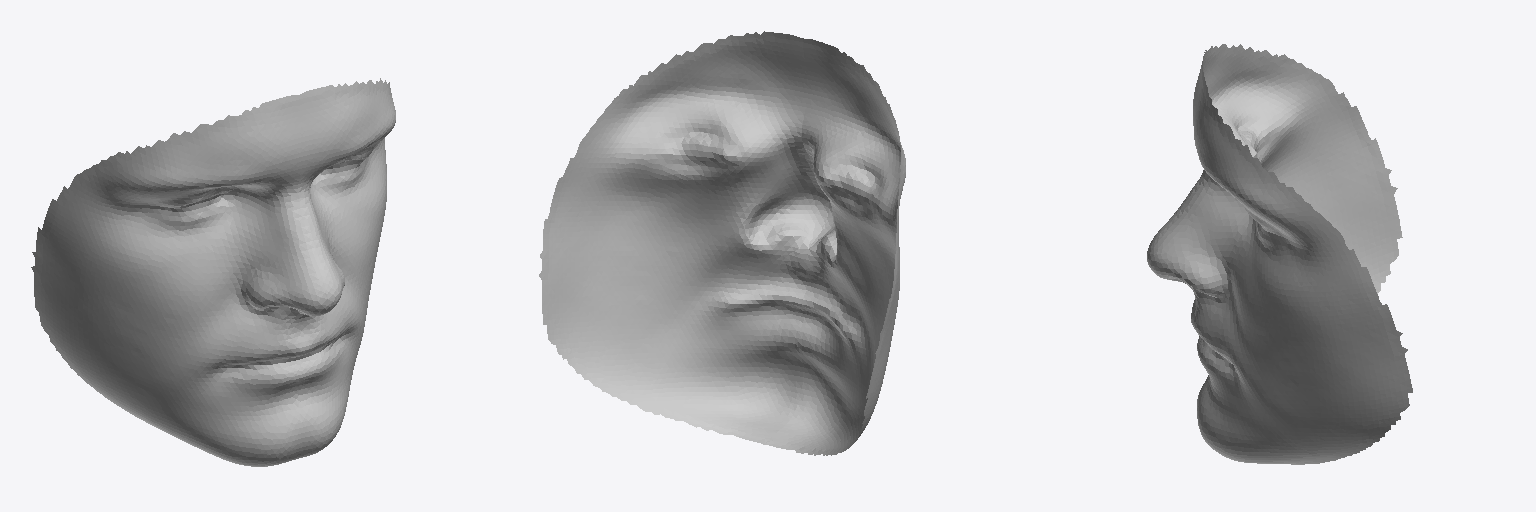
File: SIMPOP_17.obj
3 renders of one model, left to right at view 1: azimuth 30°, elevation 25°; view 2: azimuth 150°, elevation 25°; view 3: azimuth 270°, elevation 25°, orthographic.
Visible parts, largest first — view 1: SIMPOP_17; view 2: SIMPOP_17; view 3: SIMPOP_17.
Part boxes in pixels (x1,y1,x2,y2): SIMPOP_17: (31,78,395,466); SIMPOP_17: (539,31,905,455); SIMPOP_17: (1147,44,1412,464).
Bounding box in the file's own units: 142 × 151 × 96.23.